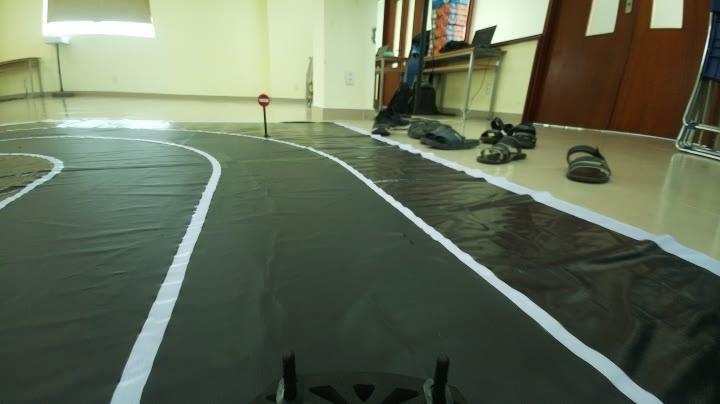no_entry: (251, 90, 275, 107)
